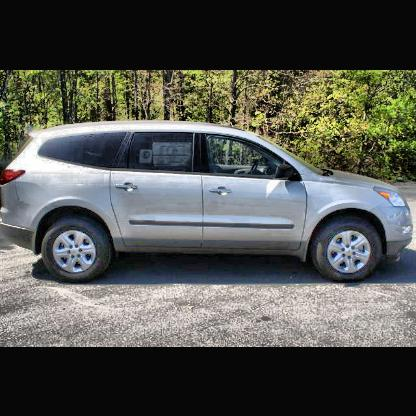Chevrolet Traverse SUV 2012: (2, 118, 416, 287)
